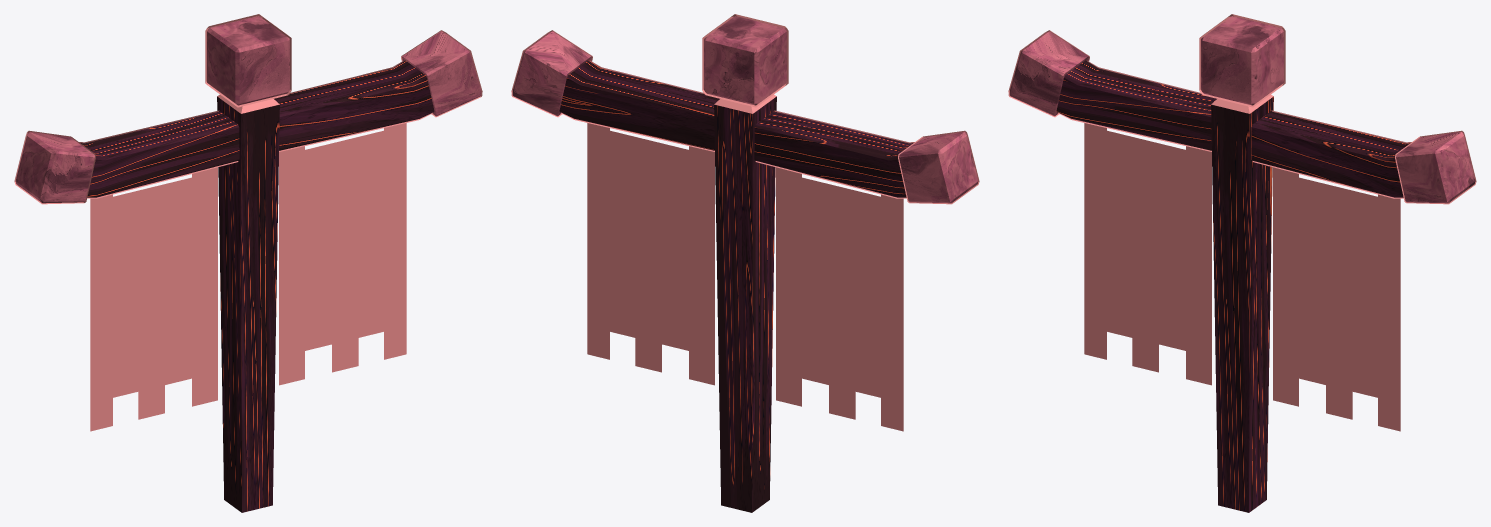
File: entity427648.gltf
3 renders of one model, left to right at view 1: azimuth 30°, elevation 25°; view 2: azimuth 150°, elevation 25°; view 3: azimuth 330°, elevation 25°, orthographic.
Parts seen in each view (by area): view 1: node_mesh_signal_01; view 2: node_mesh_signal_01; view 3: node_mesh_signal_01.
Part boxes in pixels (x1,y1,x2,y2): node_mesh_signal_01: (14,14,482,512); node_mesh_signal_01: (511,14,979,512); node_mesh_signal_01: (1008,14,1476,512).
Bounding box in the file's own units: 208 × 211 × 26.91.
